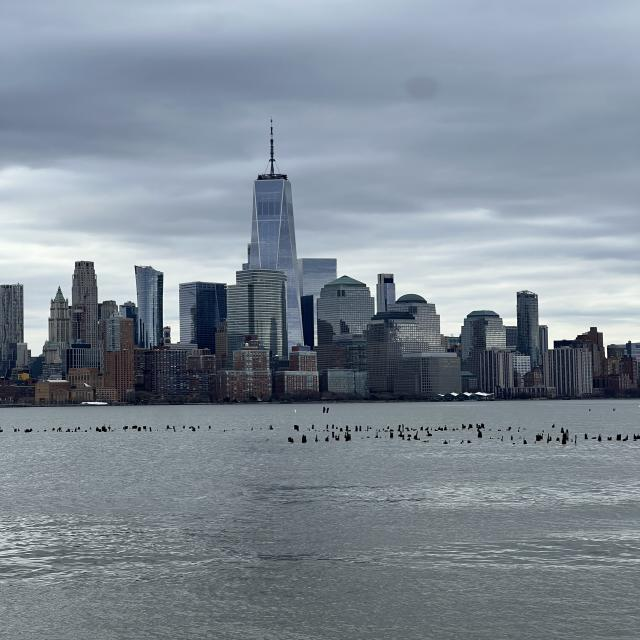WTC: (249, 117, 296, 270)
